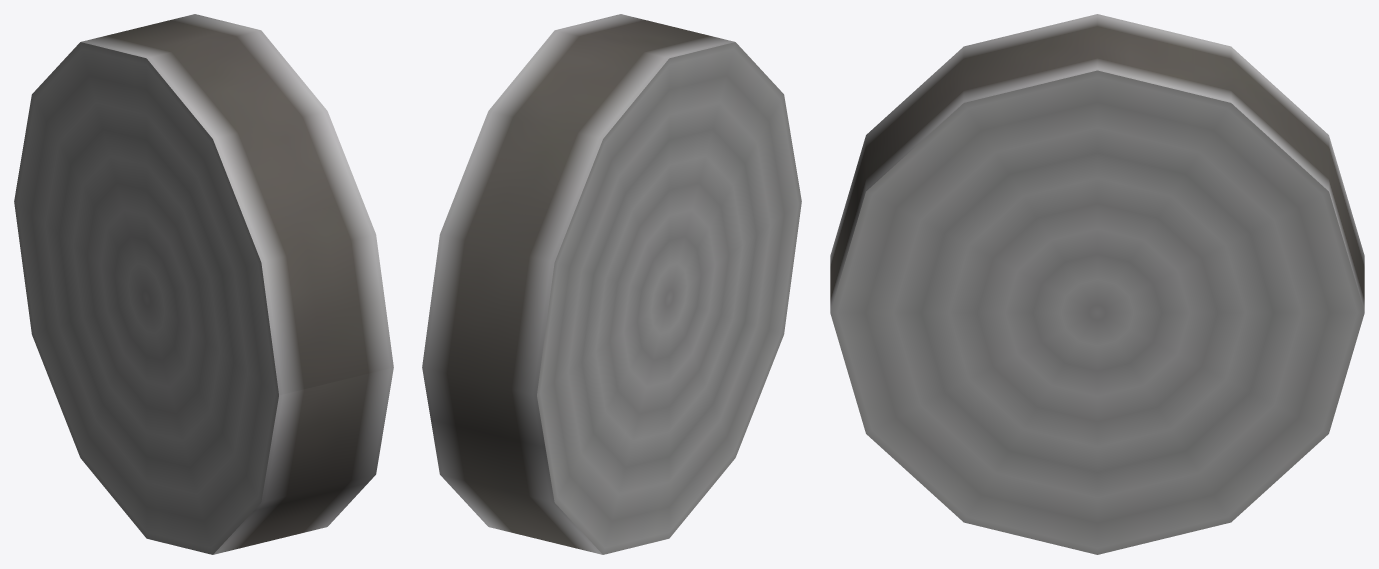
The model's file is tape_drum.obj.
3 views of the same model, side by side, from view 1: azimuth 30°, elevation 25°; view 2: azimuth 150°, elevation 25°; view 3: azimuth 270°, elevation 25° (orthographic).
Visible parts, largest first — view 1: drum; view 2: drum; view 3: drum.
Boxes of the visible parts, x1,y1,x2,y2 form: drum: (14,14,393,554); drum: (422,14,801,554); drum: (830,14,1364,554).
Size of the model in its own units: 0.025 by 0.1 by 0.1.
1 material, 1 textured.
